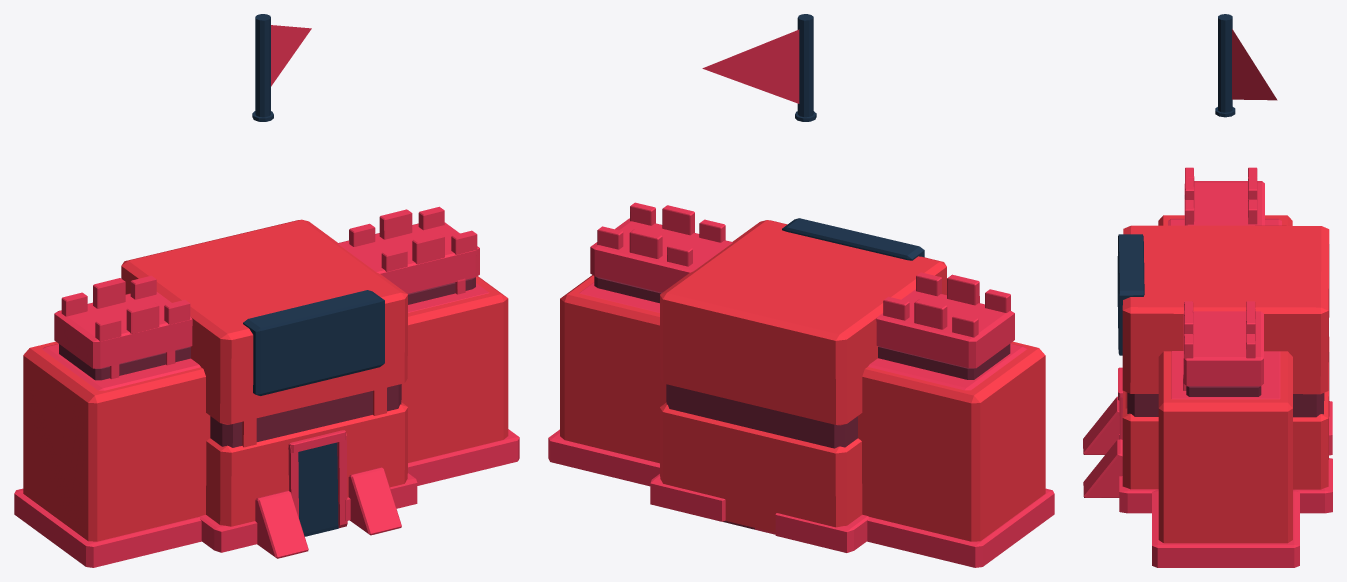
File: 3D_EnemyFortress.fbx
3 renders of one model, left to right at view 1: azimuth 30°, elevation 25°; view 2: azimuth 150°, elevation 25°; view 3: azimuth 270°, elevation 25°, orthographic. The views are drawn at different scales.
Visible parts, largest first — view 1: 3D_EnemyFortress; view 2: 3D_EnemyFortress; view 3: 3D_EnemyFortress.
Part boxes in pixels (bbox=[...]): 3D_EnemyFortress: bbox=[14, 14, 519, 567]; 3D_EnemyFortress: bbox=[548, 14, 1054, 567]; 3D_EnemyFortress: bbox=[1083, 14, 1332, 567].
Bounding box in the file's own units: 671 × 705 × 350.
Materials: 1 (1 with a texture image).
